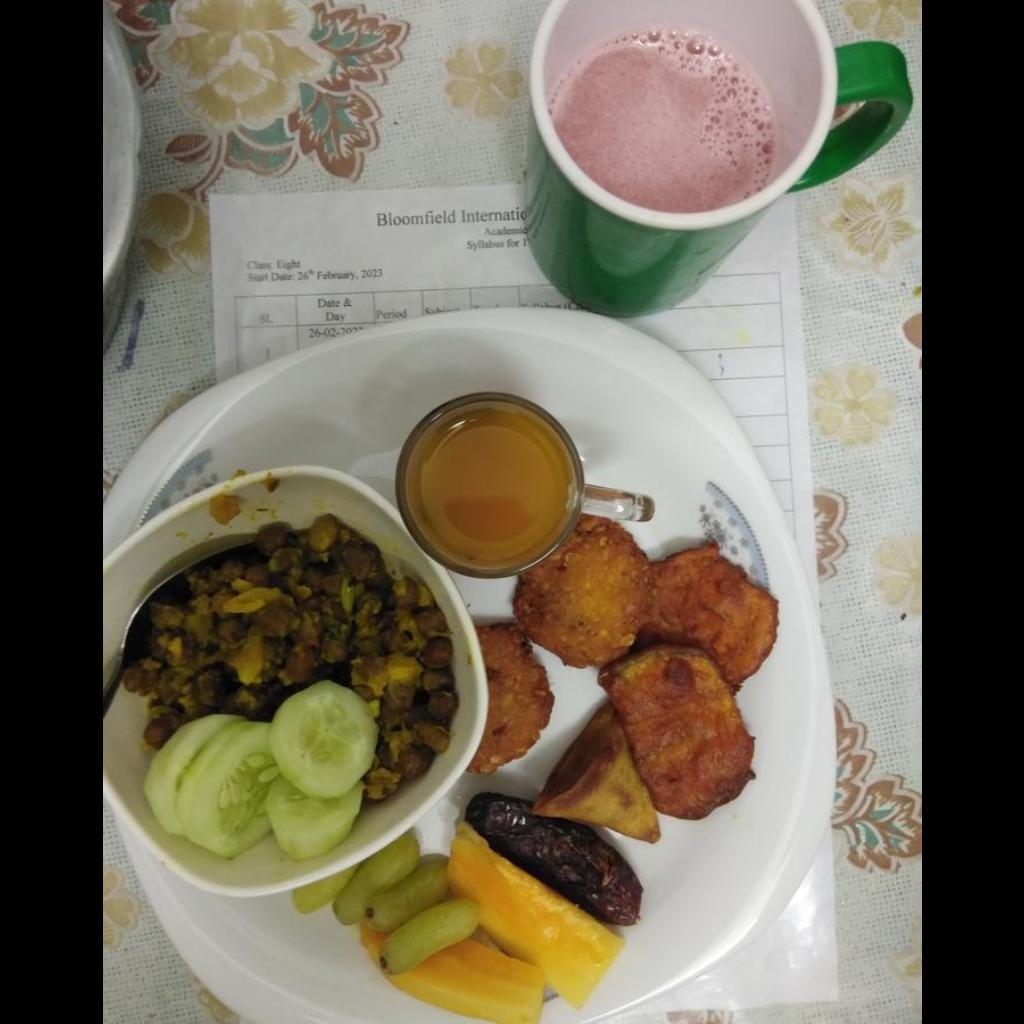beguni: (614, 655, 754, 811)
chola: (142, 511, 450, 792)
chop-alu: (656, 543, 776, 675)
cucumber: (154, 689, 377, 856)
daal: (469, 798, 638, 921)
grapes: (298, 827, 480, 961)
juice: (396, 393, 582, 578), (563, 41, 771, 205)
mango: (385, 831, 619, 1023)
peyaju: (477, 531, 644, 776)
puri: (533, 701, 658, 842)
